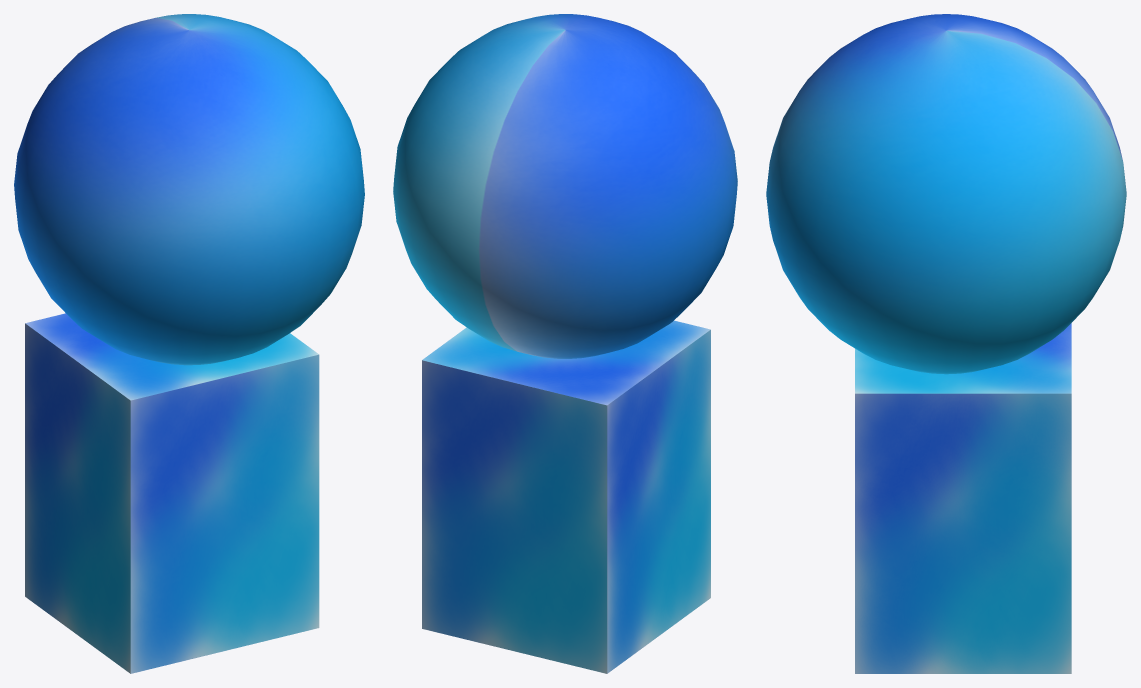
Rendered from hito2.FBX.
3 renders of one model, left to right at view 1: azimuth 30°, elevation 25°; view 2: azimuth 150°, elevation 25°; view 3: azimuth 270°, elevation 25°, orthographic. The views are drawn at different scales.
Parts seen in each view (by area): view 1: Sphere001, Box001; view 2: Sphere001, Box001; view 3: Sphere001, Box001.
Part boxes in pixels (x1=…): Sphere001: x1=14, y1=14, x2=364, y2=365; Box001: x1=25, y1=313, x2=319, y2=673; Sphere001: x1=393, y1=14, x2=737, y2=358; Box001: x1=422, y1=320, x2=710, y2=673; Sphere001: x1=766, y1=14, x2=1126, y2=374; Box001: x1=855, y1=323, x2=1071, y2=673.
Size of the model in its own units: 31.98 by 31.98 by 58.78.
Materials: 1 (1 with a texture image).
